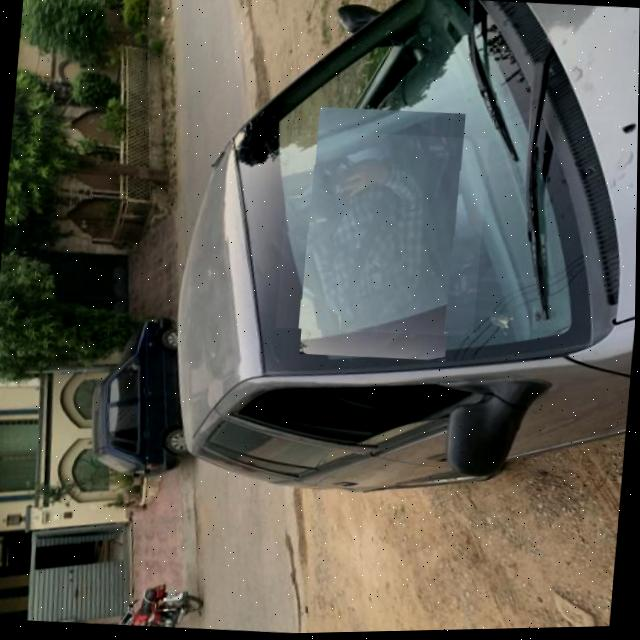seatbelt: (275, 127, 488, 342)
